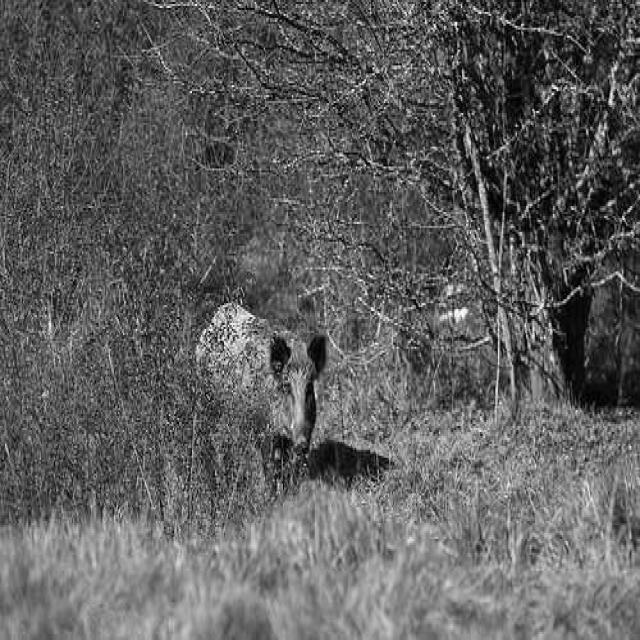boar: (193, 301, 324, 505)
